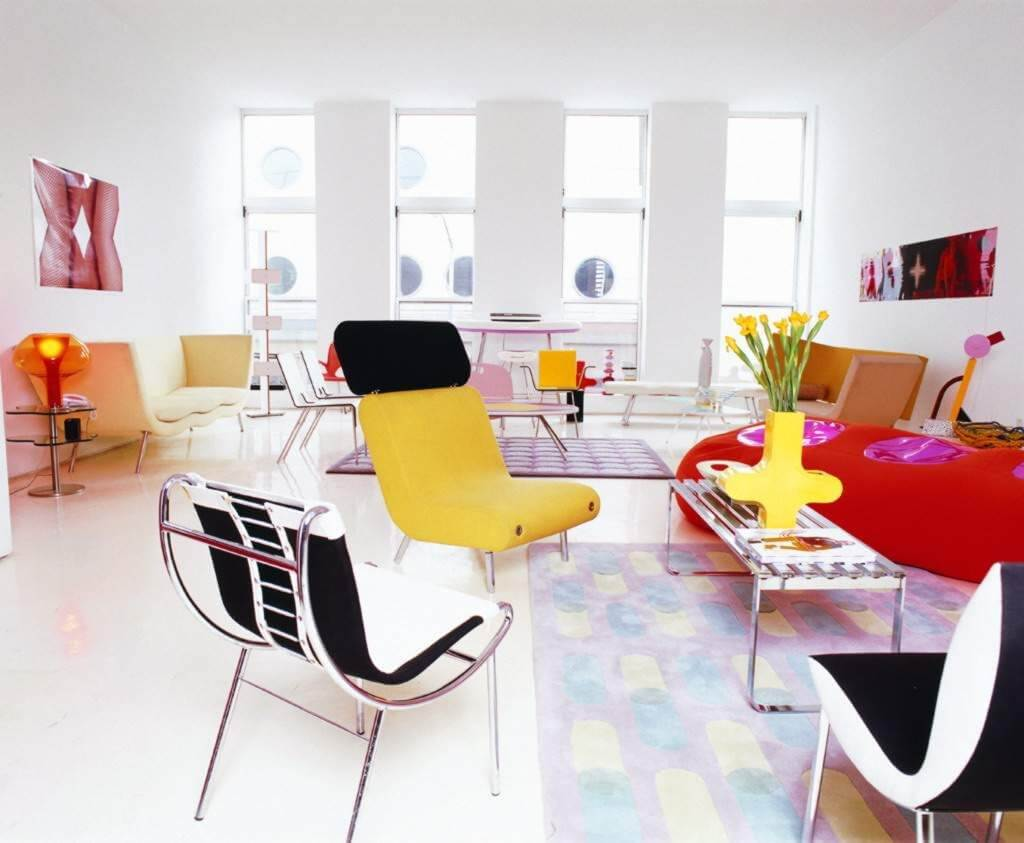hitam: (333, 322, 479, 392)
kuning: (365, 397, 601, 538), (736, 411, 832, 528), (538, 348, 575, 390)
merah: (836, 416, 1024, 566)
